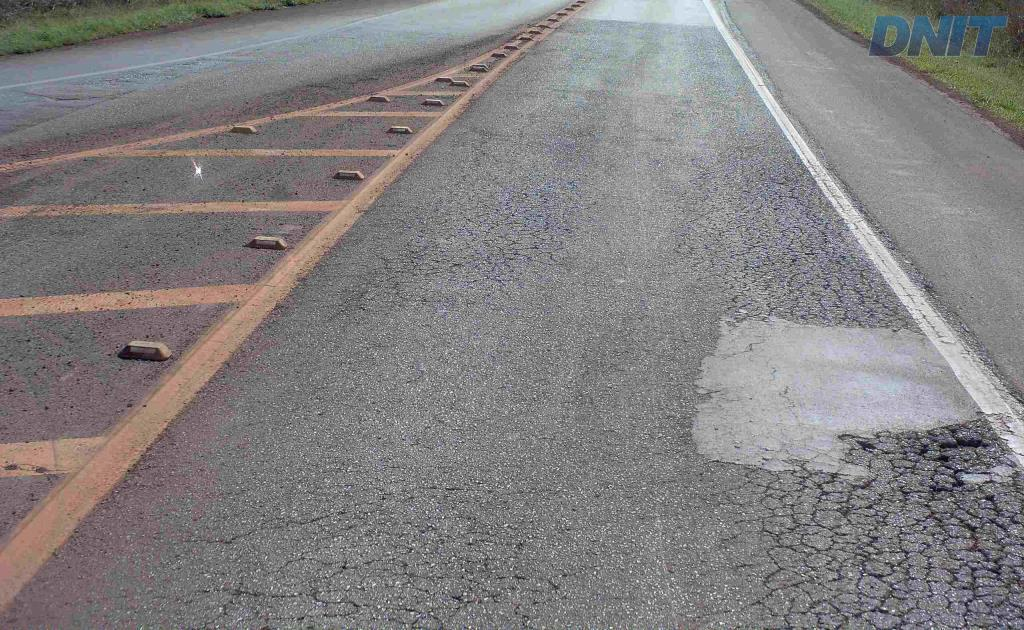crack: (884, 431, 1023, 602), (884, 523, 934, 581), (851, 526, 887, 593), (832, 492, 891, 526)
pothole: (926, 426, 994, 474)
